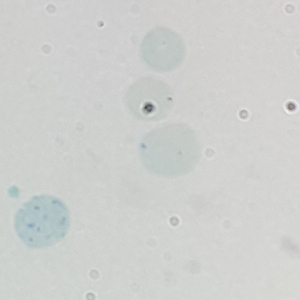aggregate reticulocyte: (12, 193, 73, 250)
erythrocyte: (122, 76, 176, 125), (138, 26, 188, 73)
punctate reticulocyte: (136, 123, 201, 179)
